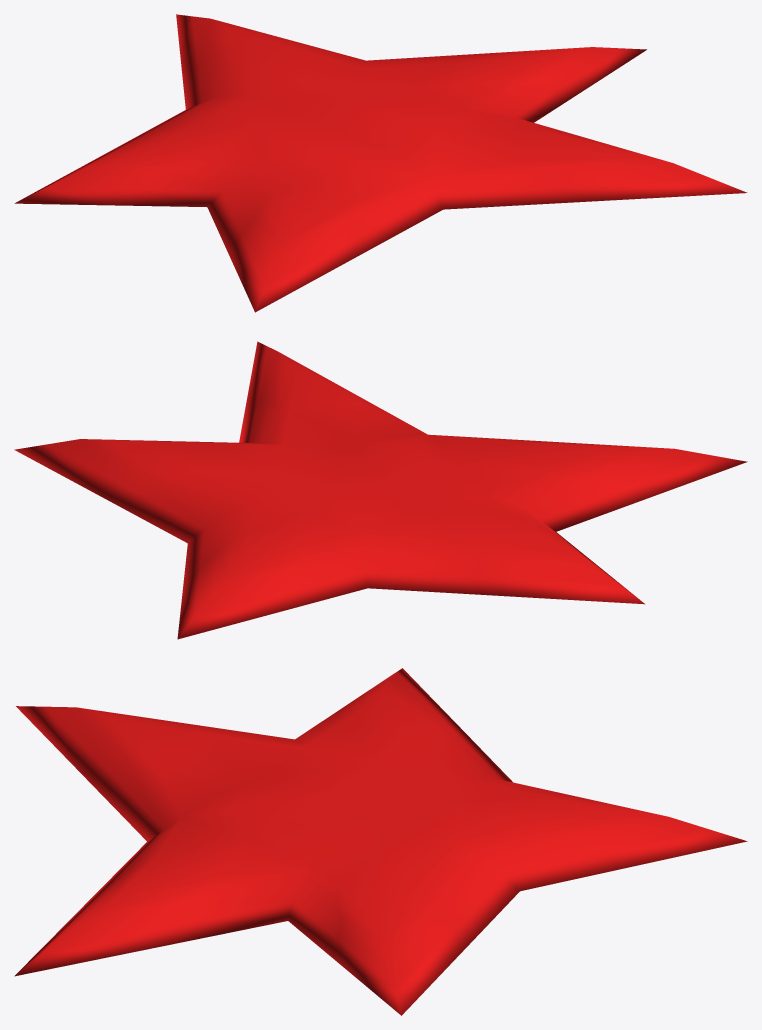
The model's file is Starfish.fbx.
The picture shows the model from 3 angles, top to bottom: view 1: azimuth 30°, elevation 25°; view 2: azimuth 150°, elevation 25°; view 3: azimuth 270°, elevation 25°; orthographic projection. The views are drawn at different scales.
Visible parts, largest first — view 1: 평면; view 2: 평면; view 3: 평면.
Part boxes in pixels (x1,y1,x2,y2): 평면: [14, 14, 747, 312]; 평면: [14, 341, 747, 639]; 평면: [14, 668, 747, 1015].
Bounding box in the file's own units: 179 × 7.75 × 159.
